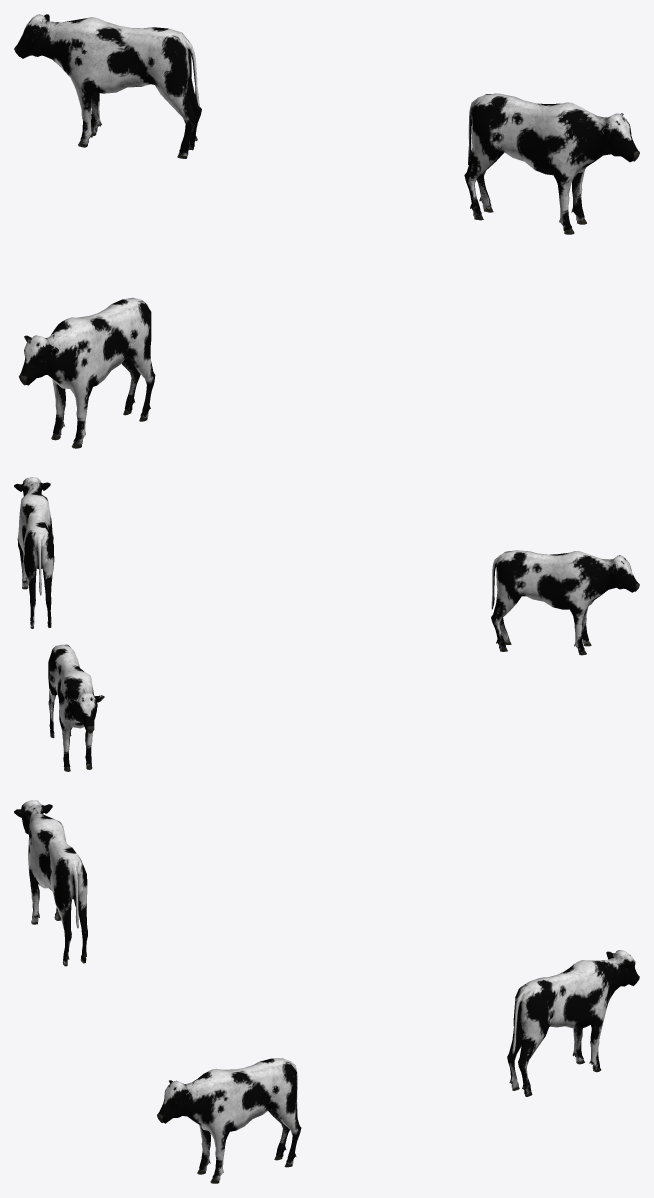
File: cow3.gltf
The picture shows the model from 3 angles, top to bottom: view 1: azimuth 30°, elevation 25°; view 2: azimuth 150°, elevation 25°; view 3: azimuth 270°, elevation 25°; orthographic projection. The views are drawn at different scales.
Parts seen in each view (by area): view 1: cow.003; view 2: cow.003; view 3: cow.003.
Part boxes in pixels (x1,y1,x2,y2): cow.003: (14, 14, 639, 448); cow.003: (14, 477, 639, 771); cow.003: (14, 800, 639, 1183).
Size of the model in its own units: 28.59 by 4.99 by 25.4.
4 materials, 4 textured.
